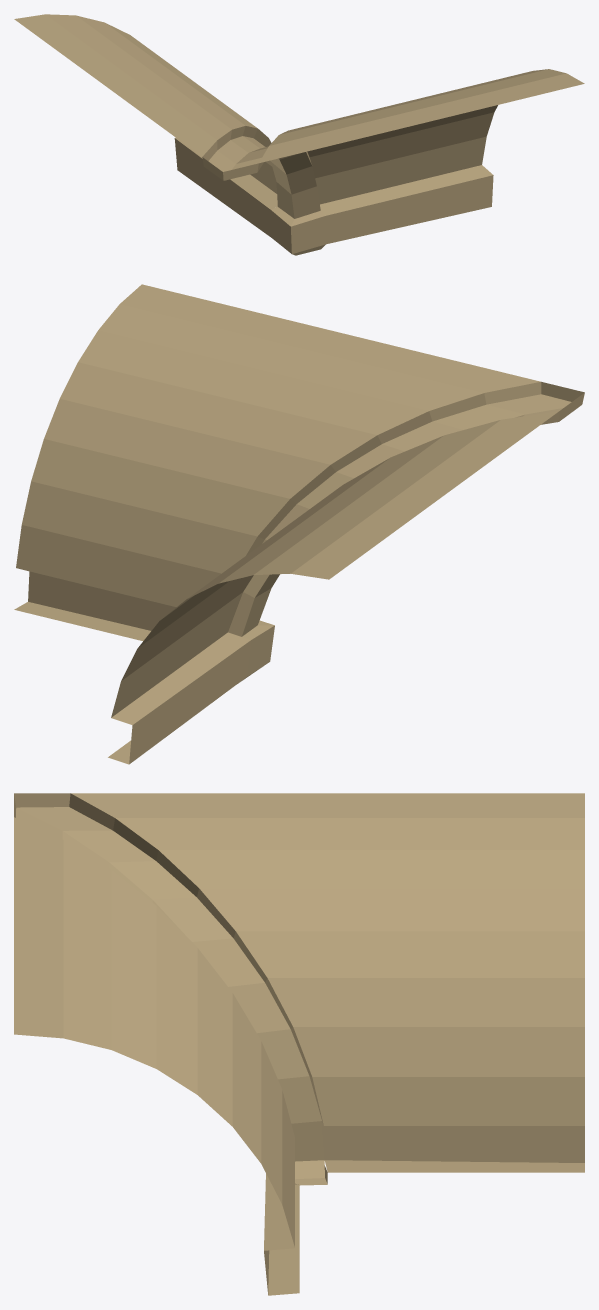
Rendered from Wall_Arch_Corner_Outward_Sewer_Environment.FBX.
3 views of the same model, one above another, from view 1: azimuth 30°, elevation 25°; view 2: azimuth 150°, elevation 25°; view 3: azimuth 270°, elevation 25° (orthographic). The views are drawn at different scales.
Parts seen in each view (by area): view 1: Wandschräge002; view 2: Wandschräge002; view 3: Wandschräge002.
Part boxes in pixels (<box>): Wandschräge002: <box>14,14,584,255</box>; Wandschräge002: <box>14,284,584,764</box>; Wandschräge002: <box>14,793,584,1295</box>.
Size of the model in its own units: 200 by 105 by 200.
